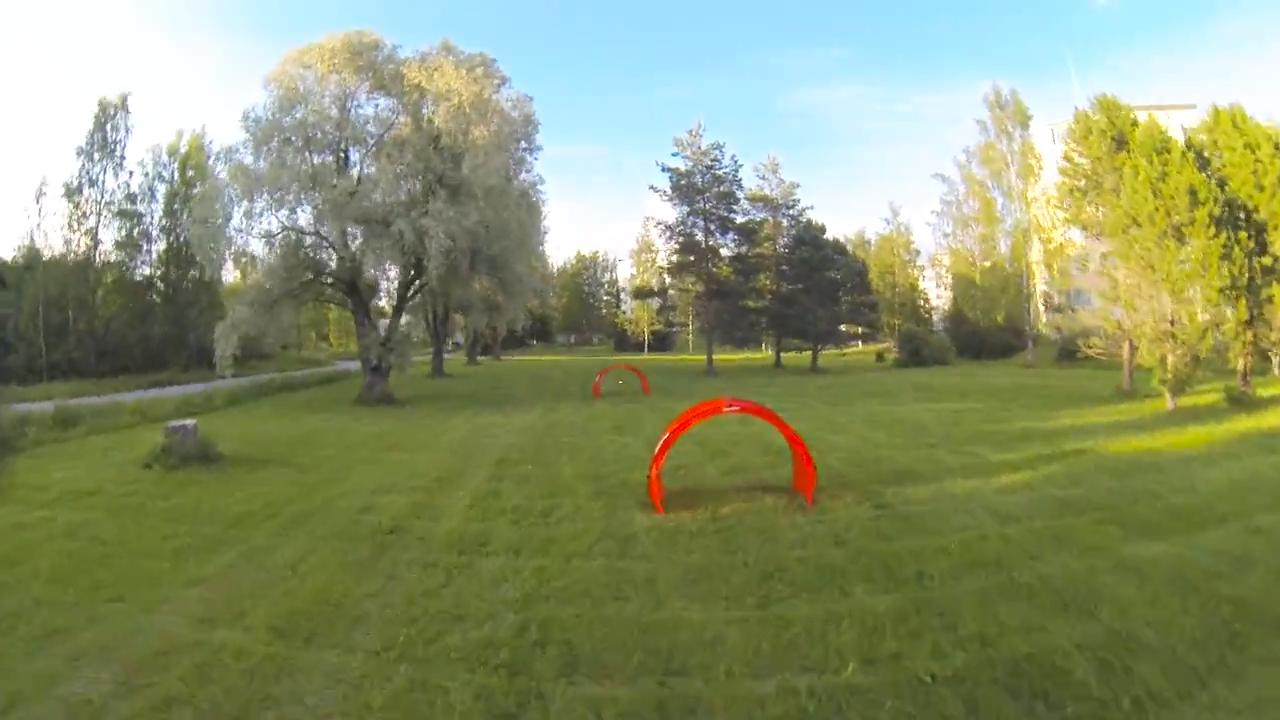gate: (639, 393, 828, 515)
